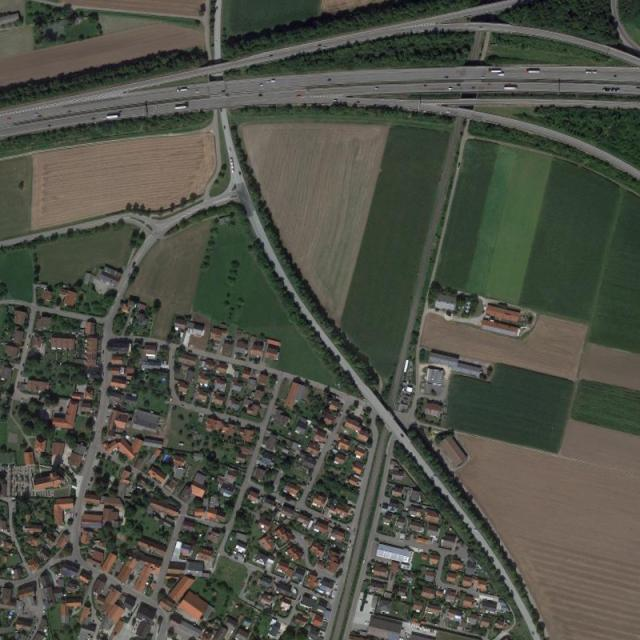vehicle: (503, 85, 518, 90), (175, 87, 187, 93), (175, 105, 188, 110), (488, 69, 501, 74), (526, 70, 540, 74), (106, 114, 119, 118), (497, 73, 504, 76)
